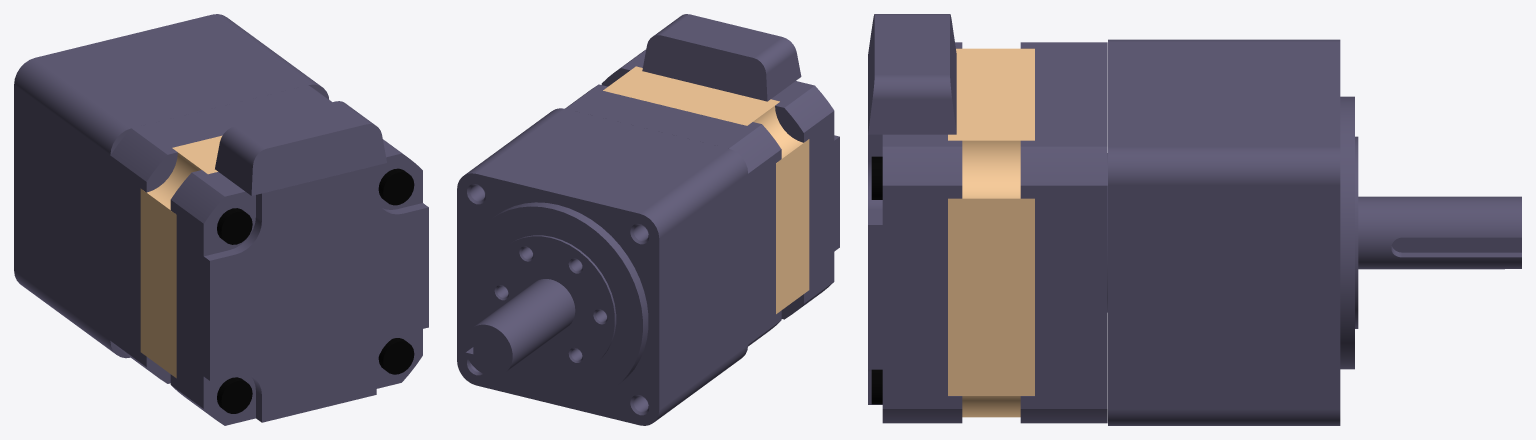
Rendered from Main_CRK543AP-H50.dae.
3 renders of one model, left to right at view 1: azimuth 30°, elevation 25°; view 2: azimuth 150°, elevation 25°; view 3: azimuth 270°, elevation 25°, orthographic. The views are drawn at different scales.
Parts seen in each view (by area): view 1: Main_CRK543AP-H50; view 2: Main_CRK543AP-H50; view 3: Main_CRK543AP-H50.
Part boxes in pixels (<box>): Main_CRK543AP-H50: <box>14,14,428,425</box>; Main_CRK543AP-H50: <box>457,14,839,425</box>; Main_CRK543AP-H50: <box>868,14,1521,425</box>.
Bounding box in the file's own units: 0.042 × 0.09 × 0.0495.
